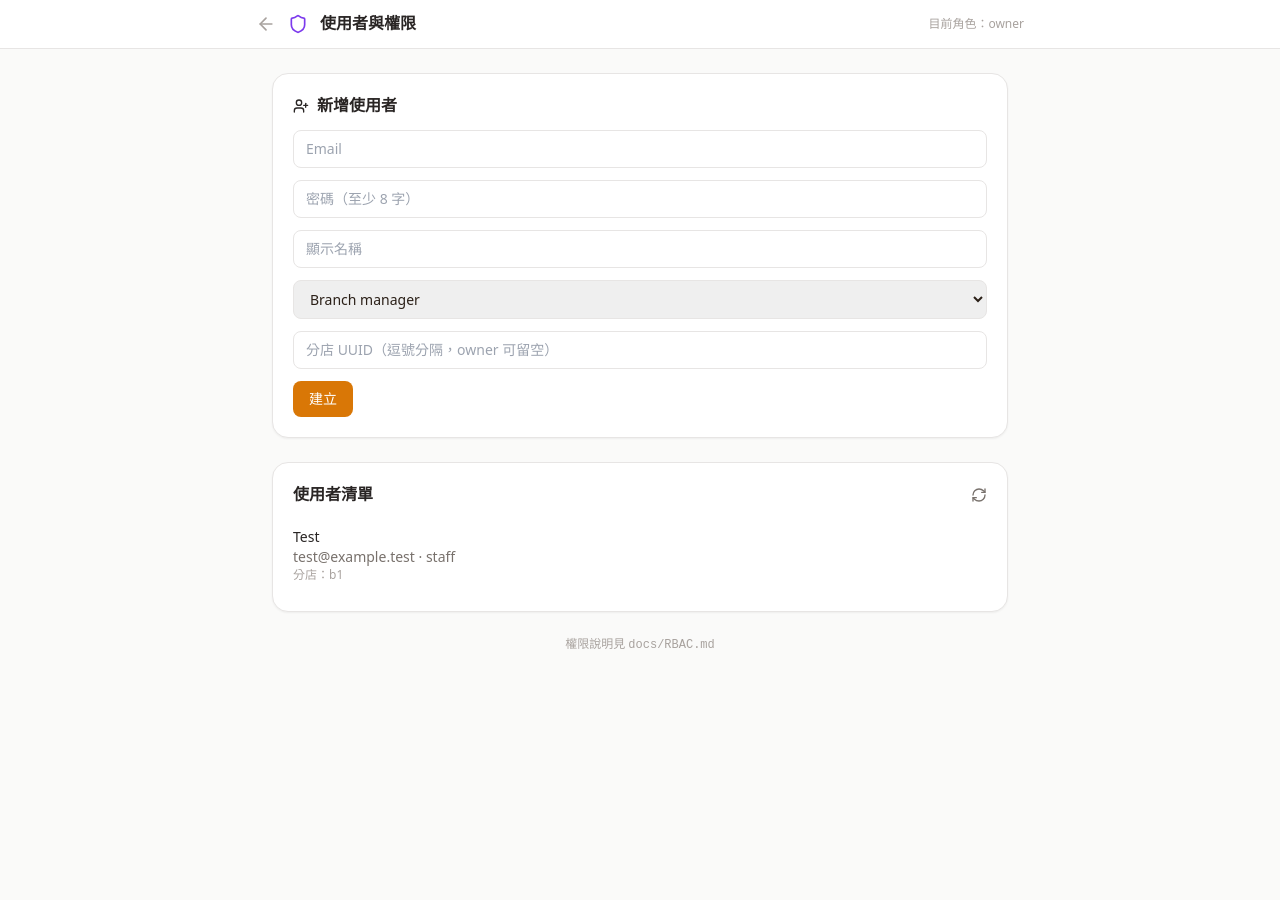
Test case: admin user creation recovery › does not send a creation request if it cannot persist the hold
Type "new@example.test" into the field with placeholder "Email". click: [640, 149]
box: [293,130,987,168]
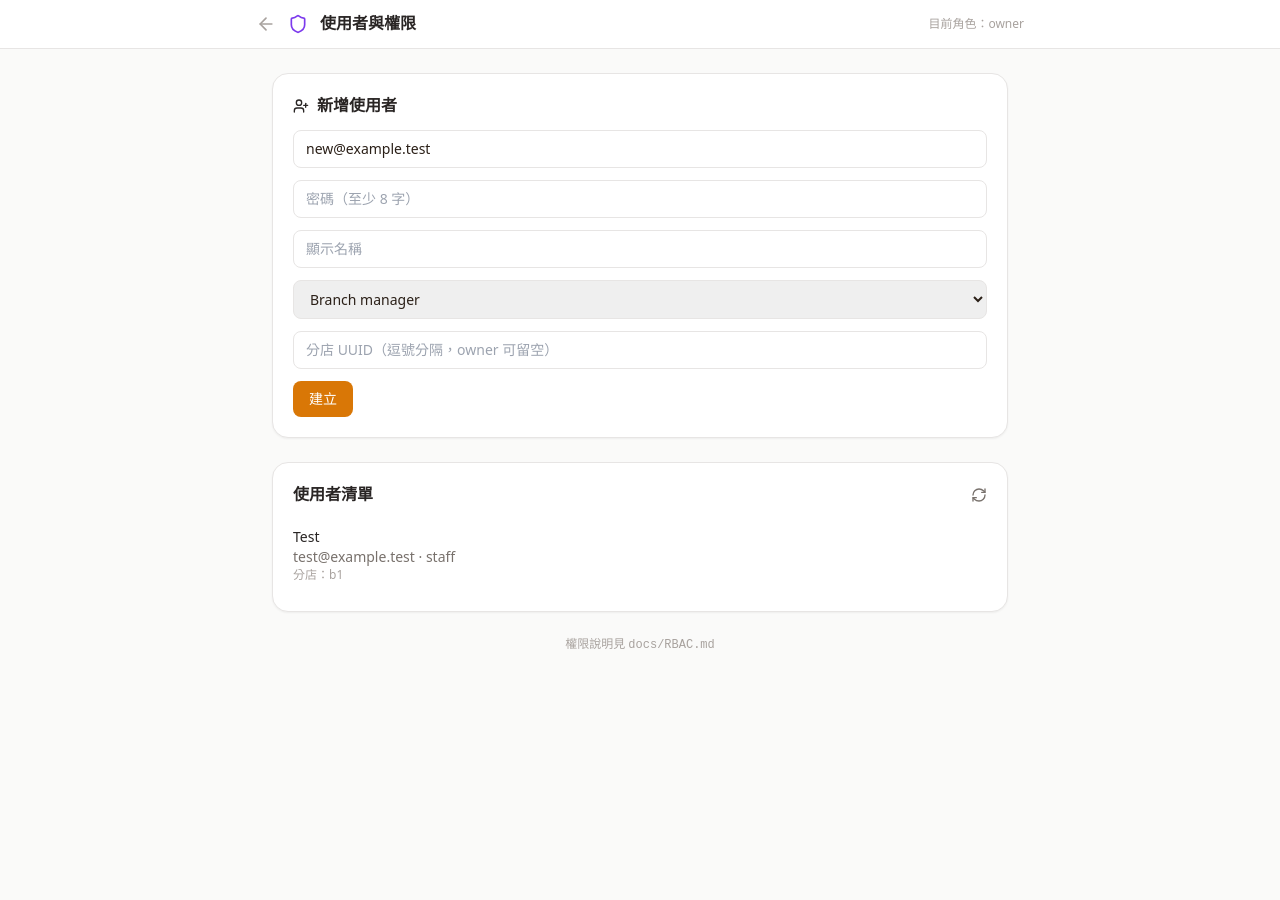
Type "test-password" into the password field with placeholder "密碼（至少 8 字）". click: [640, 199]
box: [293,180,987,218]
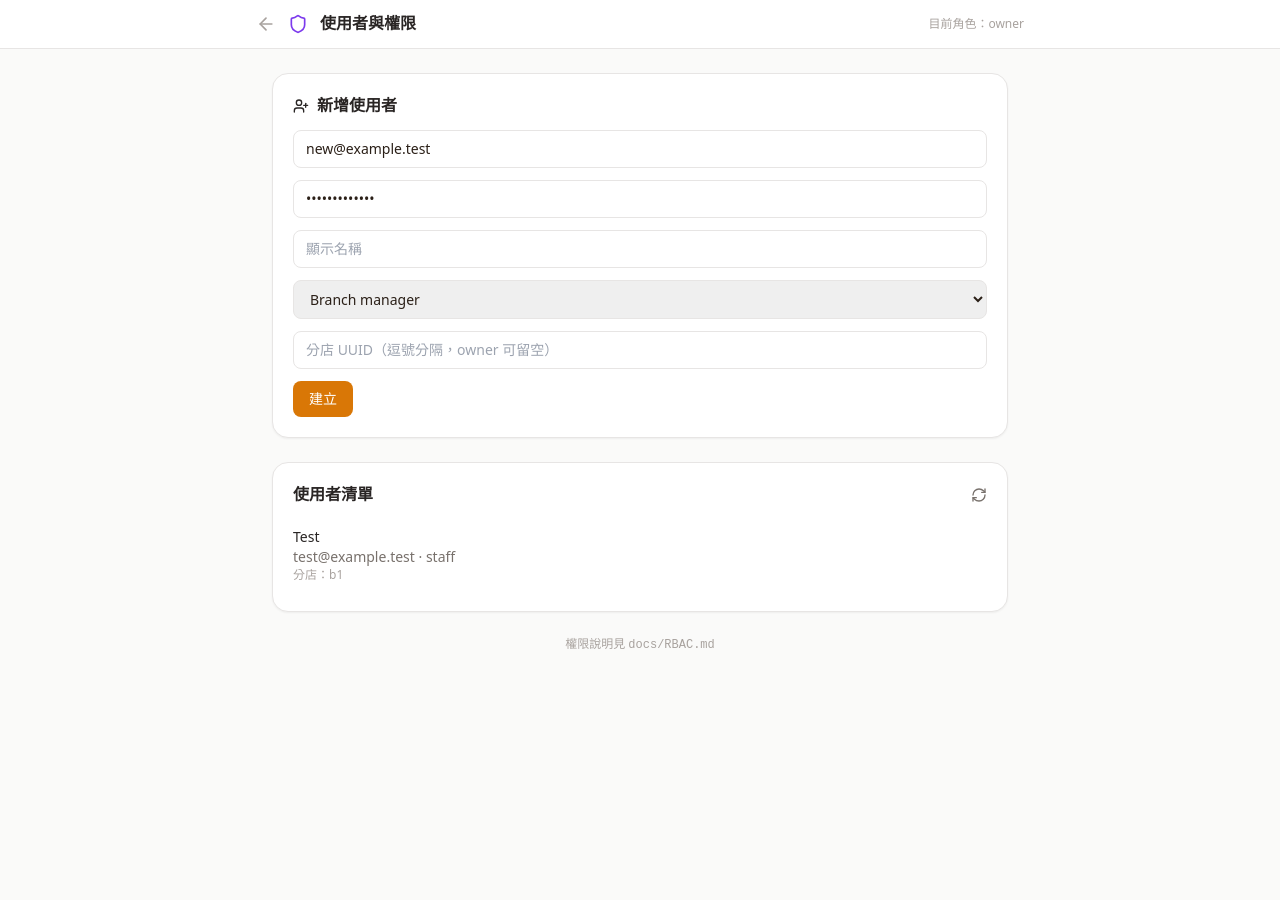
Type "b1" into the field with placeholder "分店 UUID（逗號分隔，owner 可留空）". click: [640, 350]
box: [293,331,987,369]
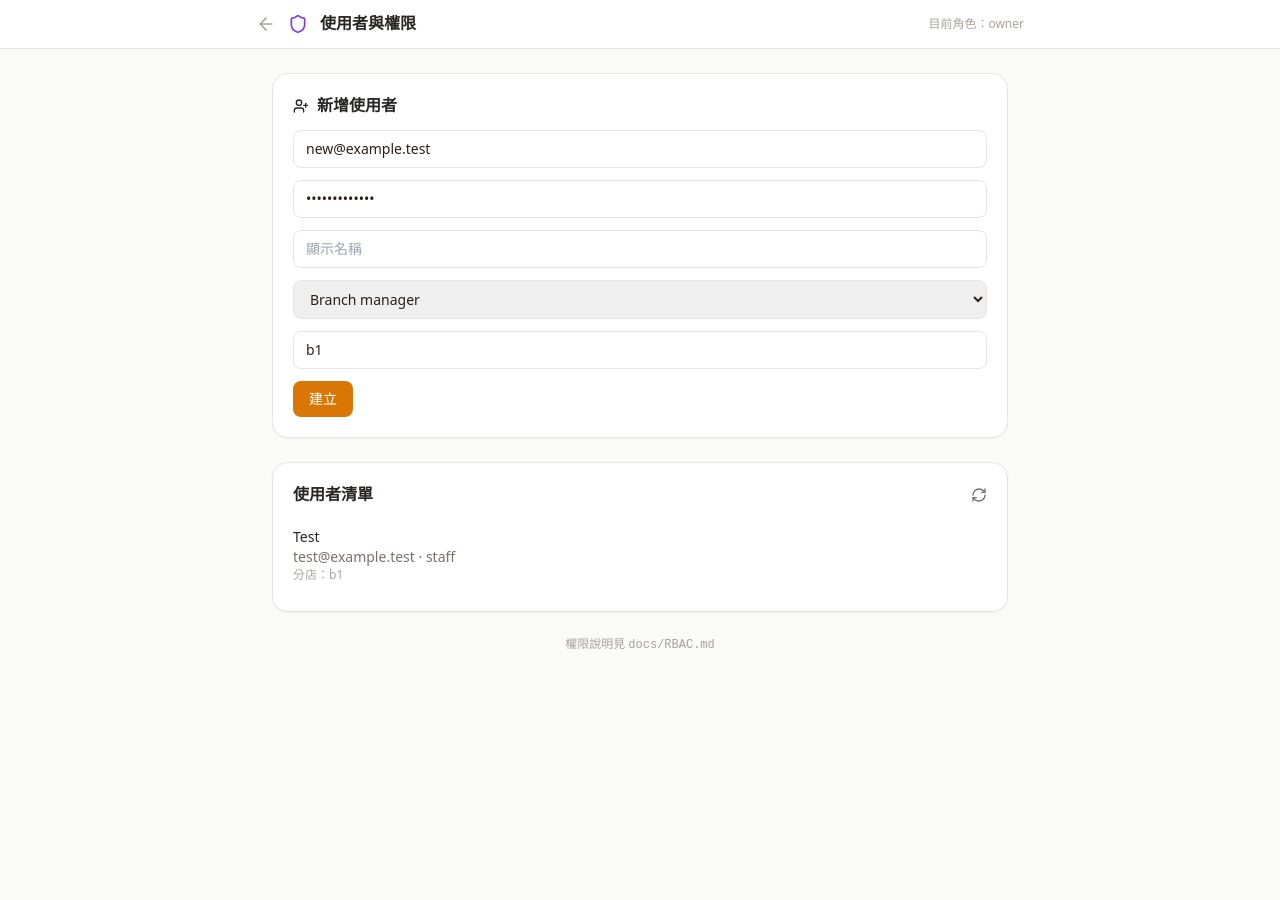
Click the button "建立". click: [323, 399]
box: [293,381,353,417]
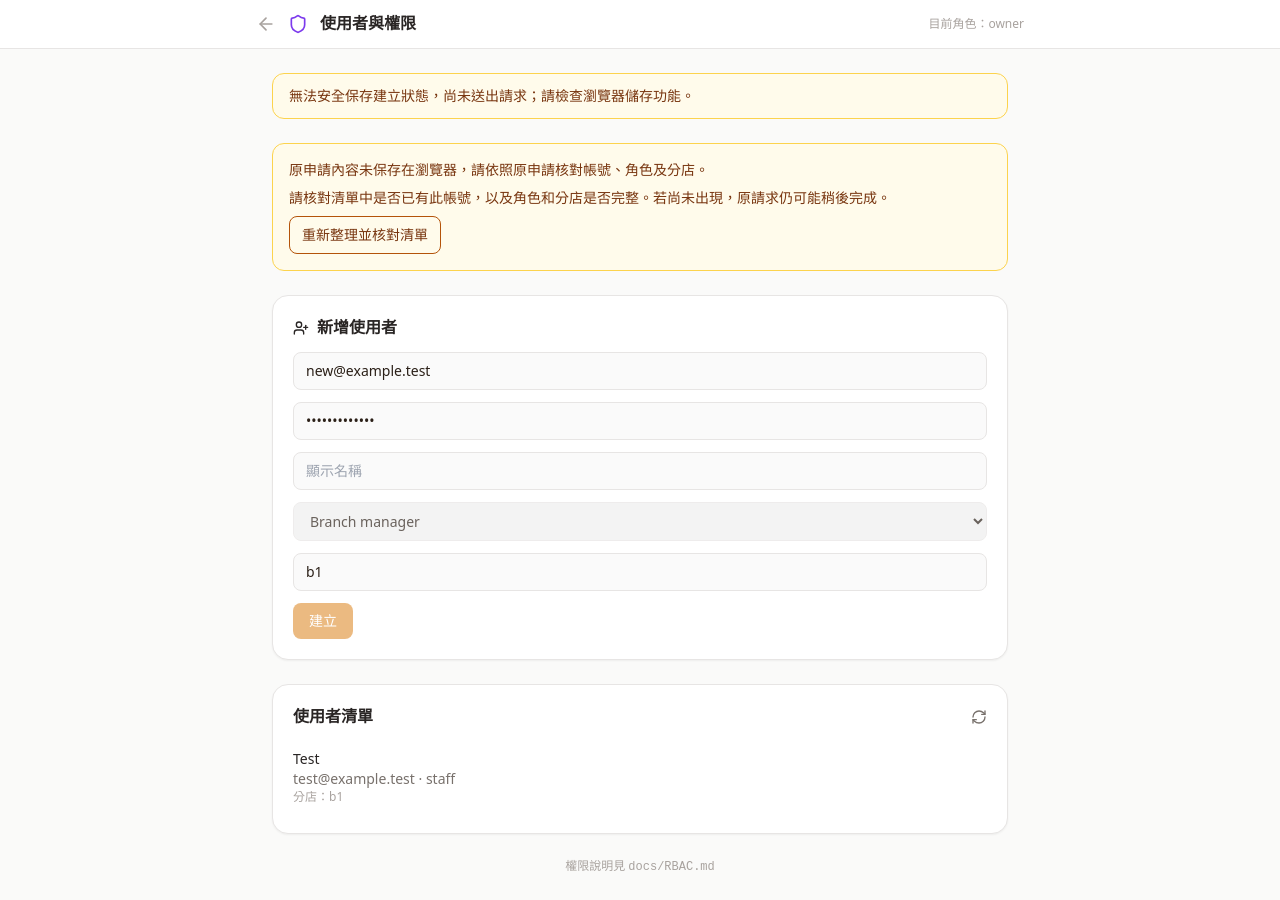
Check: the text "無法安全保存建立狀態，尚未送出請求；請檢查瀏覽器儲存功能。" is shown, box [272,73,1008,119]
